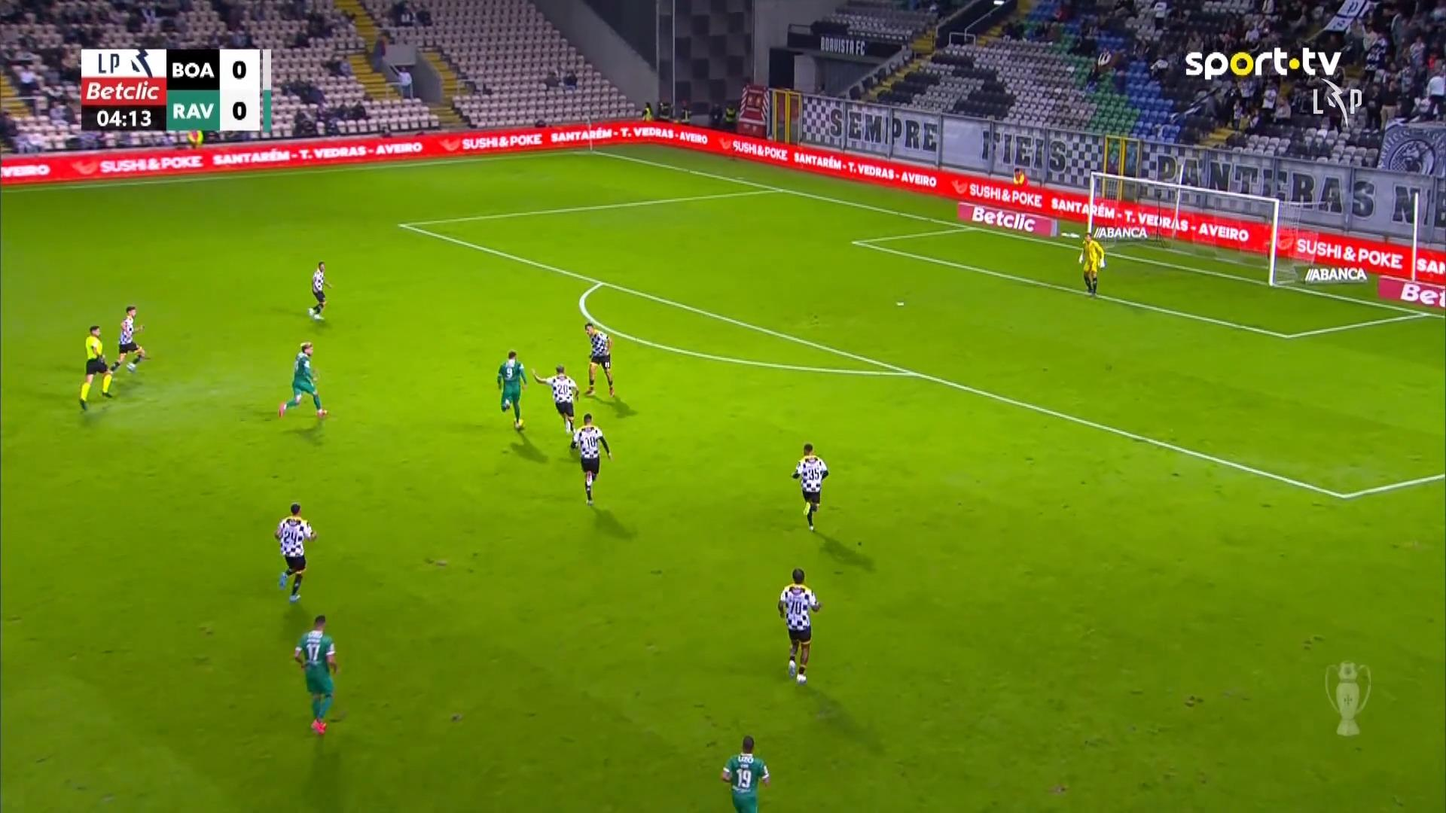ball: (513, 418, 524, 431)
goalkeeper: (1077, 231, 1106, 296)
player: (292, 614, 339, 735), (776, 567, 822, 684), (273, 501, 317, 601), (277, 340, 328, 418), (570, 413, 612, 504), (720, 735, 770, 811), (531, 364, 579, 436), (791, 442, 828, 531), (108, 305, 149, 373), (581, 321, 615, 398), (496, 349, 527, 431), (307, 260, 333, 320)
referee: (78, 324, 114, 412)
